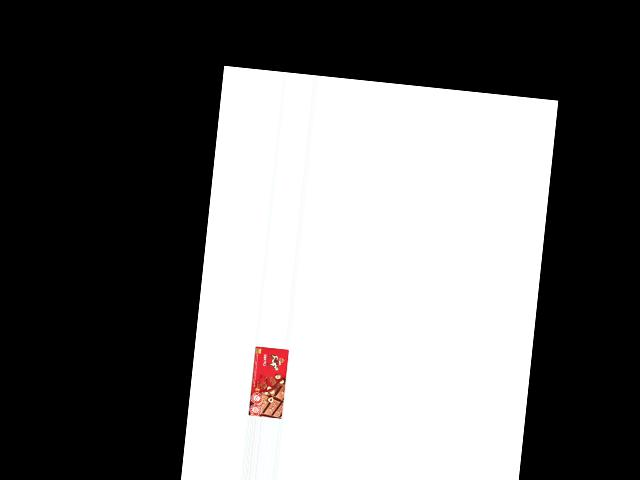chocolate: (247, 345, 289, 419)
